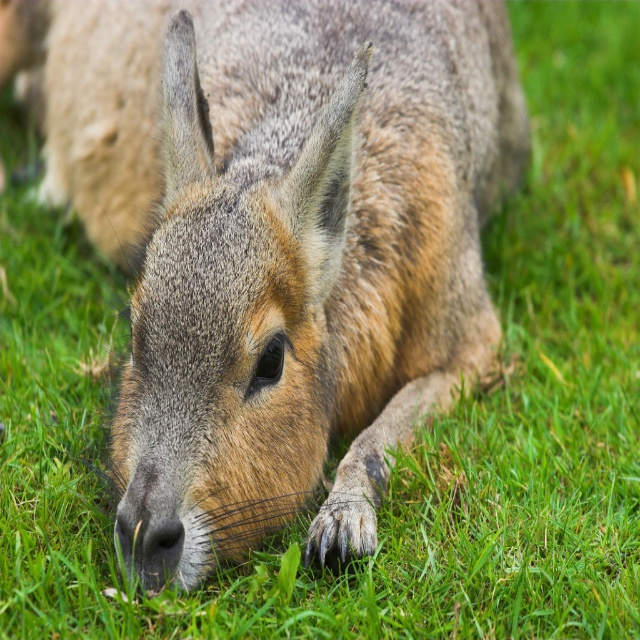Rabbit: (41, 0, 536, 602)
